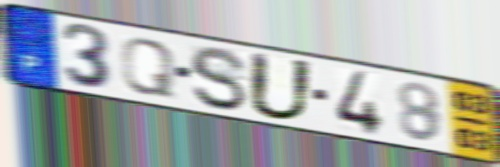3: (60, 22, 116, 92)
4: (333, 67, 386, 139)
8: (395, 80, 442, 143)
Q: (119, 36, 178, 100)
S: (187, 44, 250, 114)
U: (245, 49, 317, 123)
